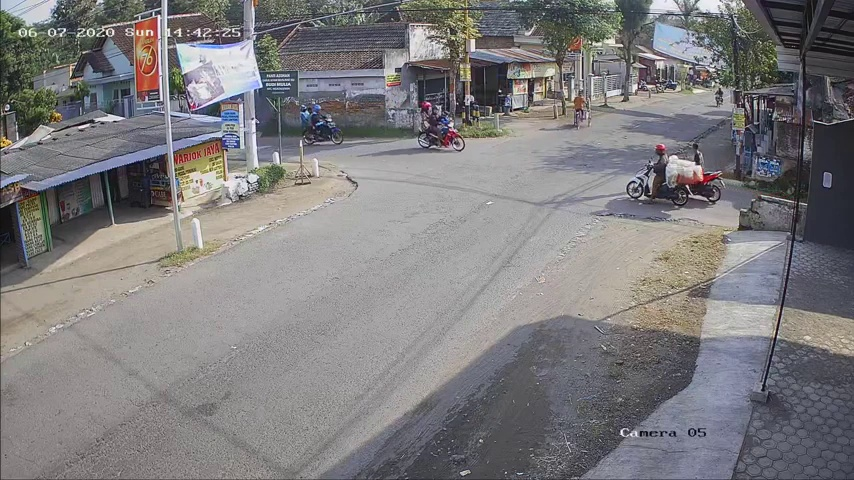motorbike: (625, 145, 688, 202), (677, 138, 722, 203), (418, 100, 465, 153), (298, 106, 343, 143)
